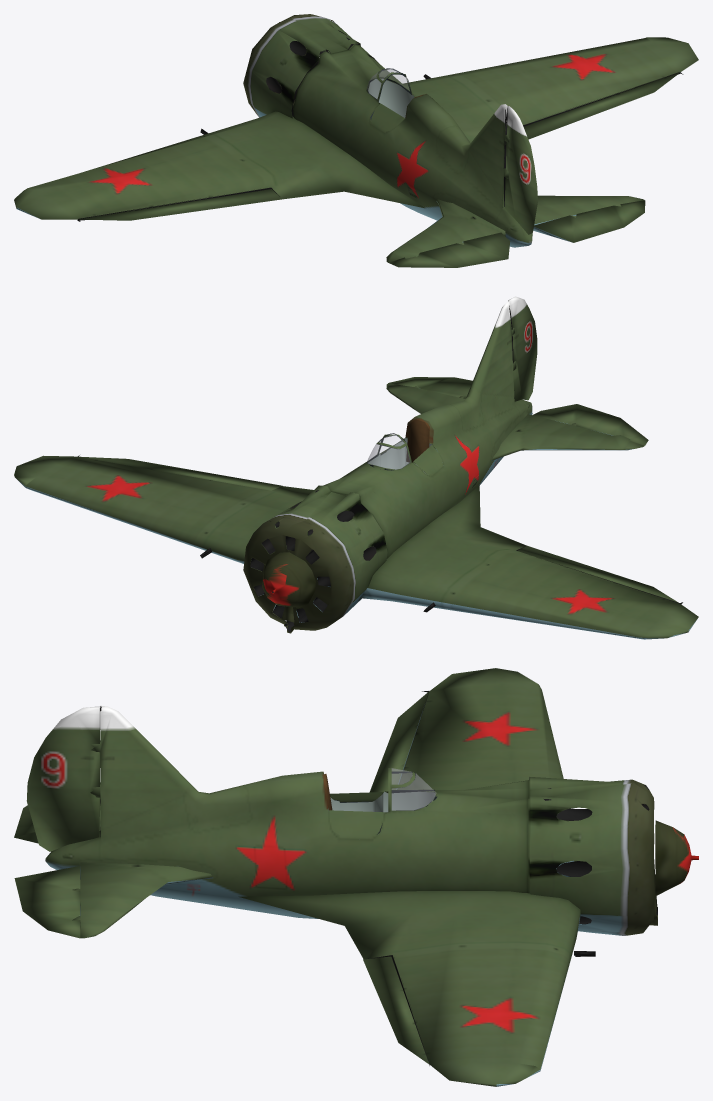
The picture shows the model from 3 angles, top to bottom: view 1: azimuth 30°, elevation 25°; view 2: azimuth 150°, elevation 25°; view 3: azimuth 270°, elevation 25°; orthographic projection. The views are drawn at different scales.
Parts seen in each view (by area): view 1: porteD_porteD.mesh; view 2: porteD_porteD.mesh; view 3: porteD_porteD.mesh.
Boxes of the visible parts, <box> form: porteD_porteD.mesh: <box>14,14,698,267</box>; porteD_porteD.mesh: <box>14,296,698,639</box>; porteD_porteD.mesh: <box>14,668,698,1086</box>.
Size of the model in its own units: 12.58 by 3.13 by 8.75.
3 materials, 2 textured.
